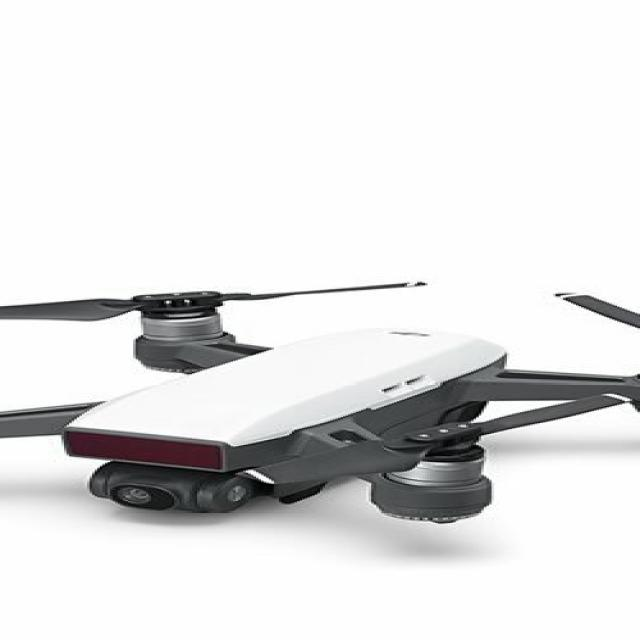drone: (0, 273, 640, 541)
